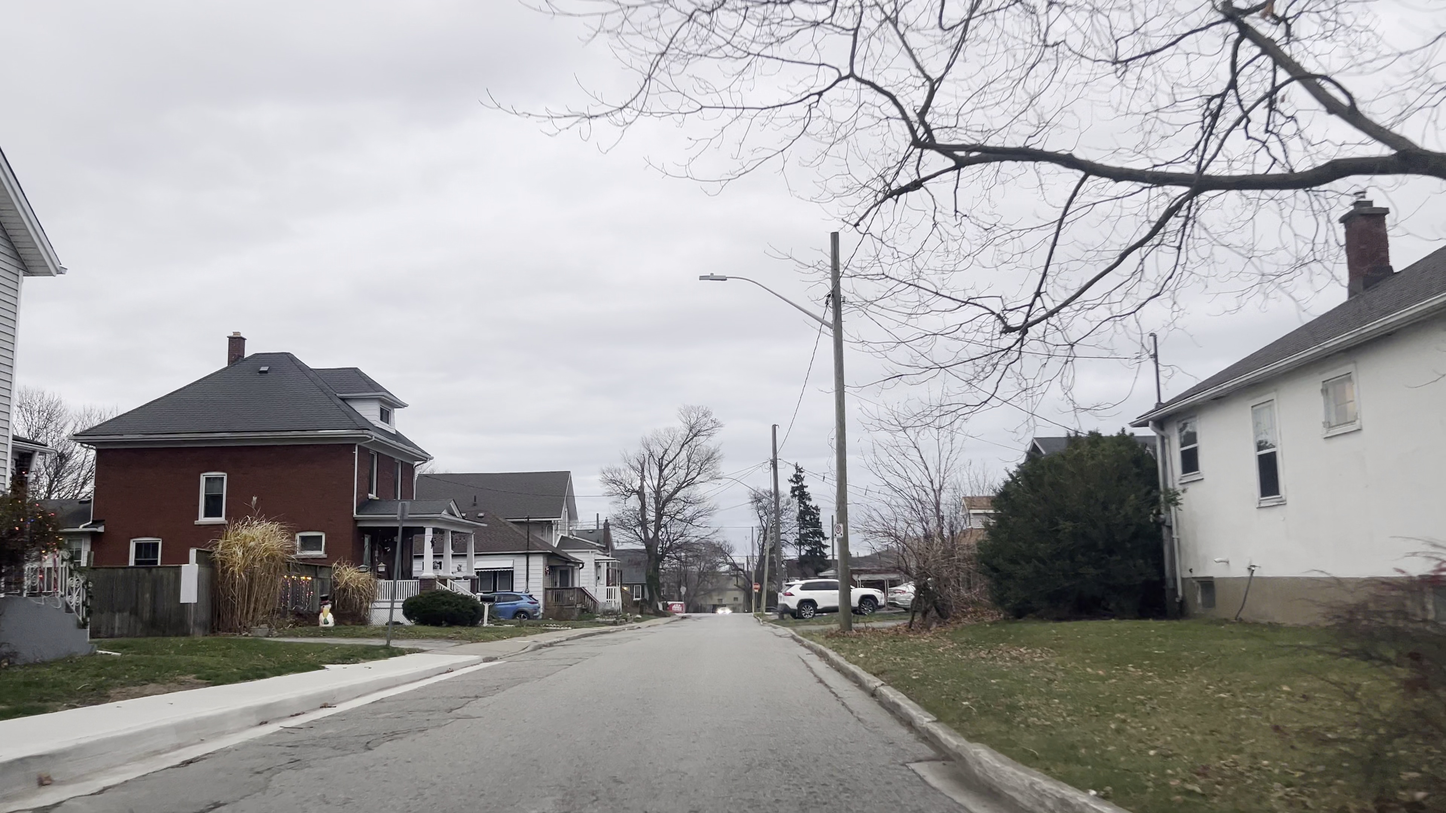cracks: (343, 701, 464, 752), (162, 743, 244, 813)
